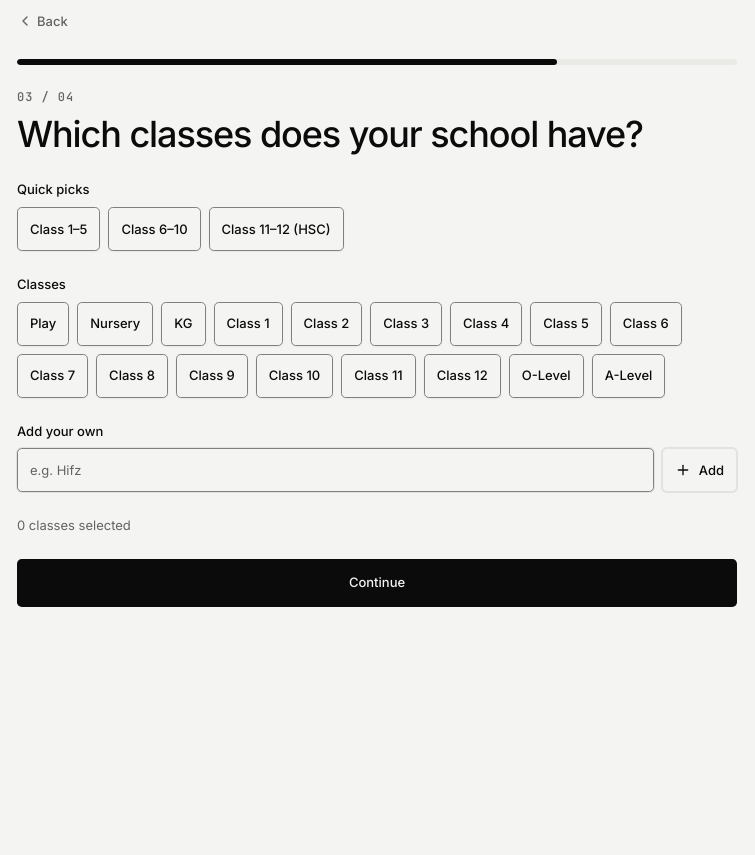
step 3 — classes › adds a custom level and saves an ordered payload on Continue
Click the button "Class 10": (295, 376) [256,354,333,398]
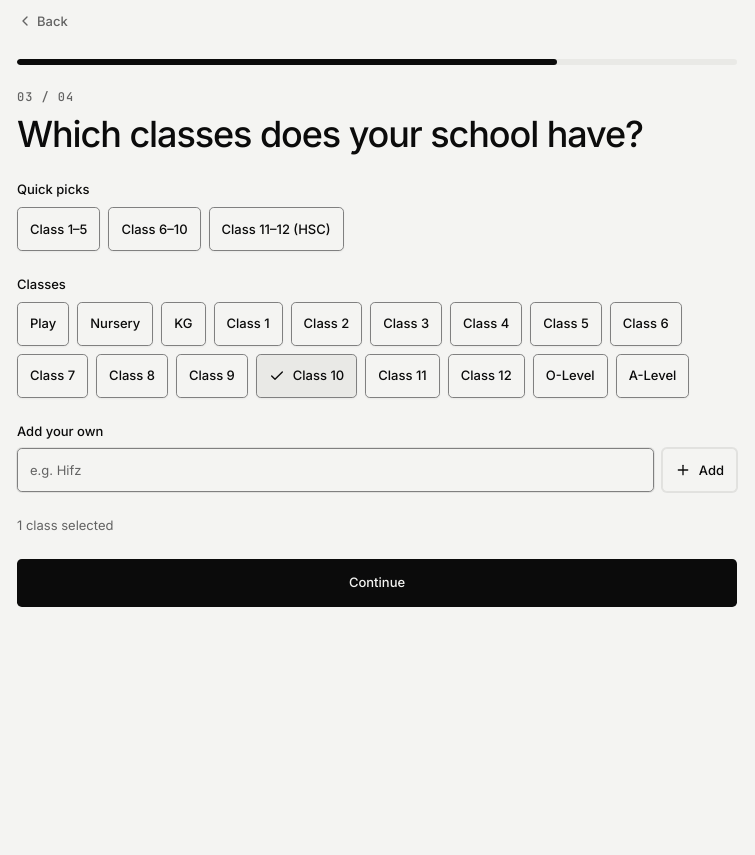
Click the button "Class 9": (212, 376) [176,354,248,398]
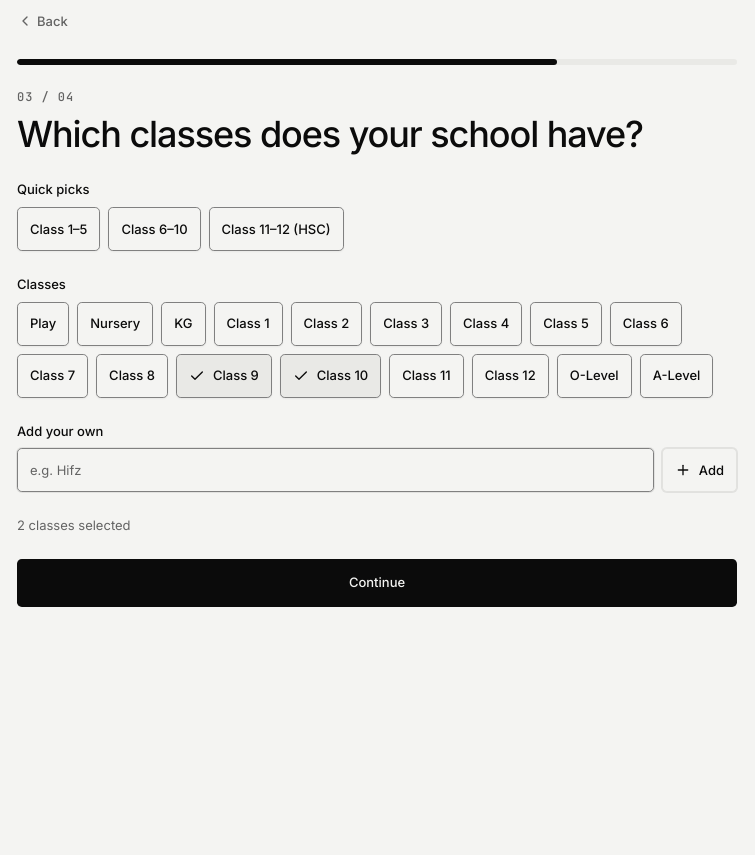
In the field labelled "Add your own": (335, 470) [17,448,654,492], type "Hifz"
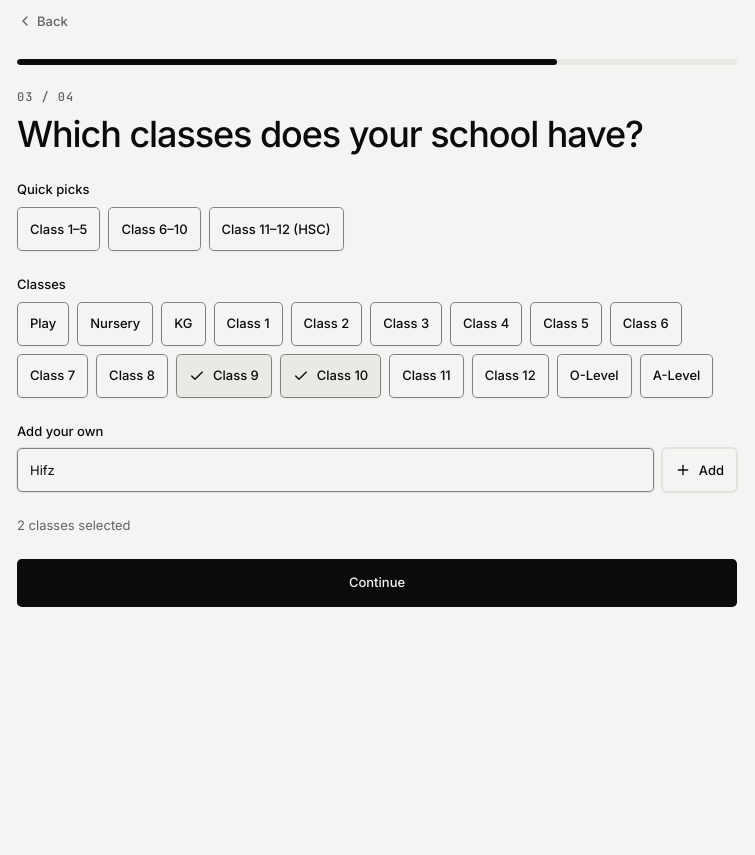
Click the button "Add": (699, 470) [662,448,737,492]
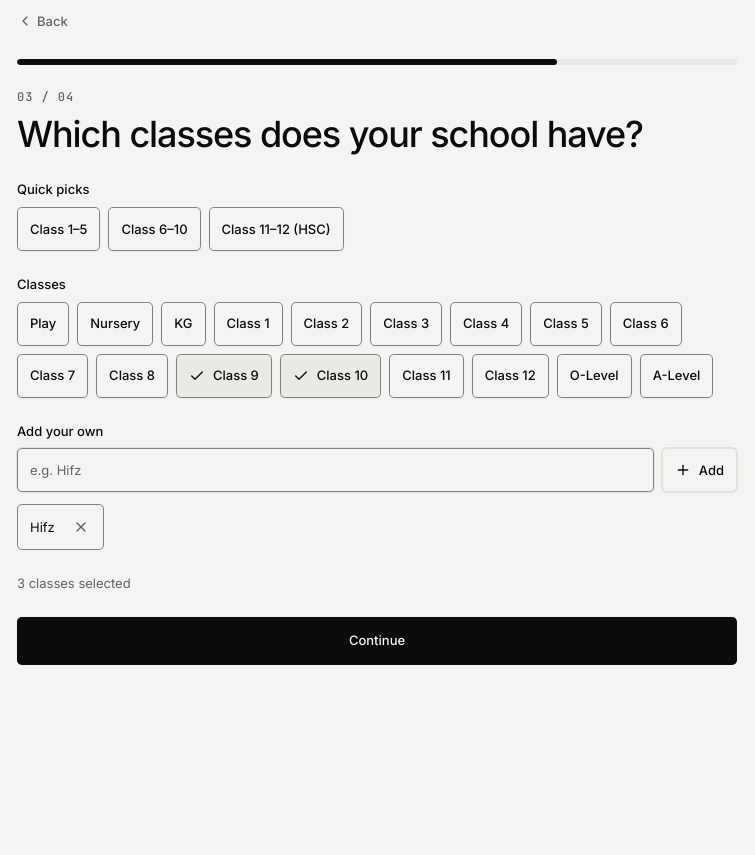
Check: the button named "Remove Hifz" is shown, box [59,505,103,549]
Click the button "Continue": (377, 641) [17,617,737,665]
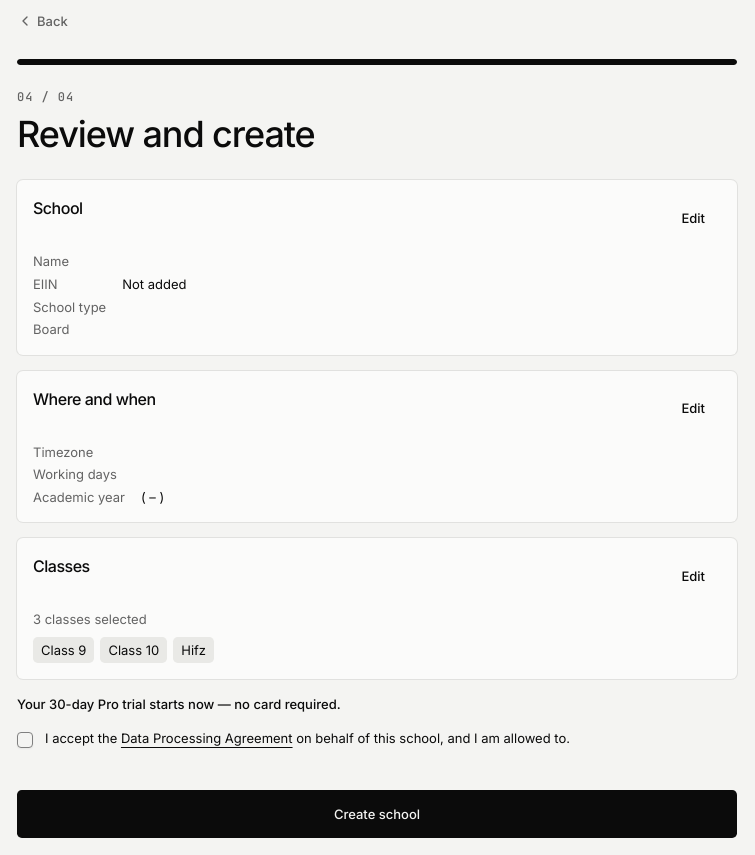
Check: the heading "Review and create" is shown, box [17,112,315,156]
